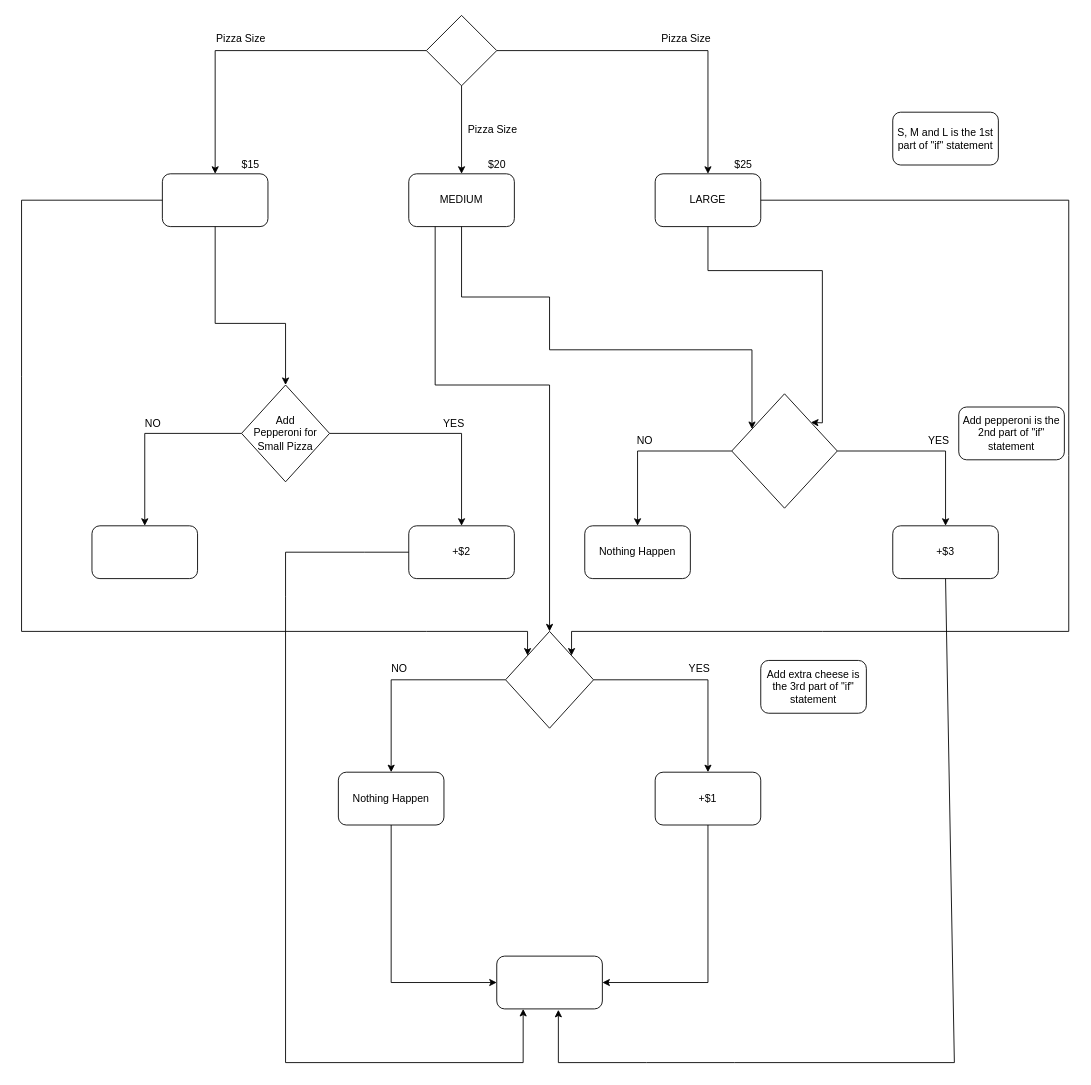
This 1091x1085 diagram has some shape labels left out. Here are the shapes that lost their labels. From the top down, the centre of each, then its label:
[461,50]: START
[214,200]: SMALL
[784,450]: Add Pepperoni for Medium or Large Pizza
[144,552]: Nothing
[549,679]: Add Chess for all pizza
[549,982]: Final Price $???
